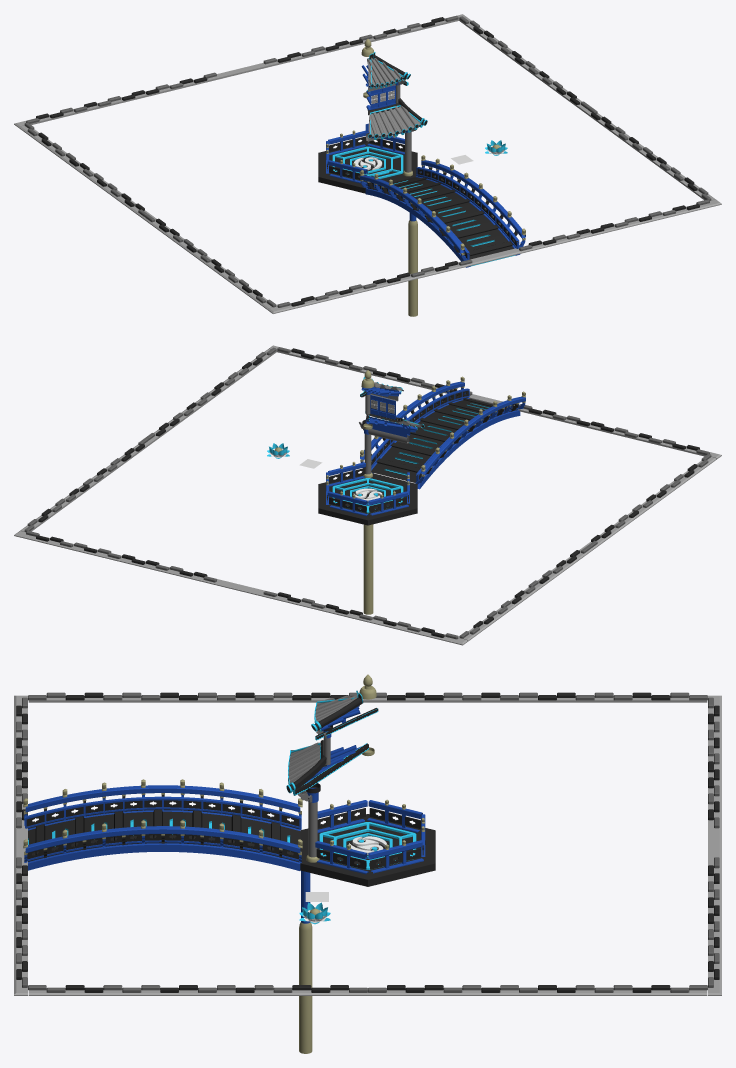
The model's file is stage2landmark.fbx.
3 views of the same model, one above another, from view 1: azimuth 30°, elevation 25°; view 2: azimuth 150°, elevation 25°; view 3: azimuth 270°, elevation 25° (orthographic). The views are drawn at different scales.
Visible parts, largest first — view 1: stone, bridge, landmarkfloor, jungja, roof, trim; view 2: stone, bridge, landmarkfloor, jungja, trim; view 3: stone, bridge, landmarkfloor, jungja, roof, trim.
Boxes of the visible parts, bbox=[...] form: stone: bbox=[14, 14, 721, 313]; bridge: bbox=[360, 155, 525, 267]; landmarkfloor: bbox=[318, 130, 417, 193]; jungja: bbox=[361, 52, 427, 316]; roof: bbox=[367, 57, 420, 136]; trim: bbox=[366, 79, 418, 172]; stone: bbox=[14, 345, 721, 645]; bridge: bbox=[360, 376, 525, 489]; landmarkfloor: bbox=[318, 462, 417, 525]; jungja: bbox=[360, 377, 424, 614]; trim: bbox=[359, 386, 409, 474]; stone: bbox=[14, 692, 721, 995]; bridge: bbox=[23, 779, 302, 870]; landmarkfloor: bbox=[300, 799, 435, 886]; jungja: bbox=[286, 690, 378, 1053]; roof: bbox=[288, 695, 357, 782]; trim: bbox=[298, 730, 330, 857].
Bounding box in the file's own units: 9056 × 5113 × 9056.
